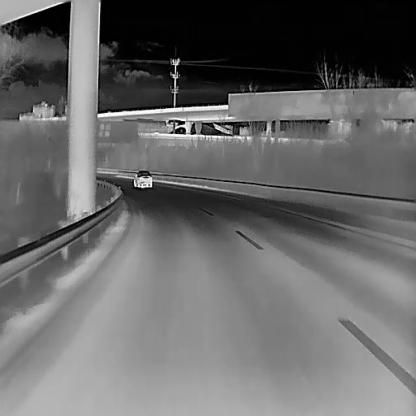car: (134, 170, 152, 187)
